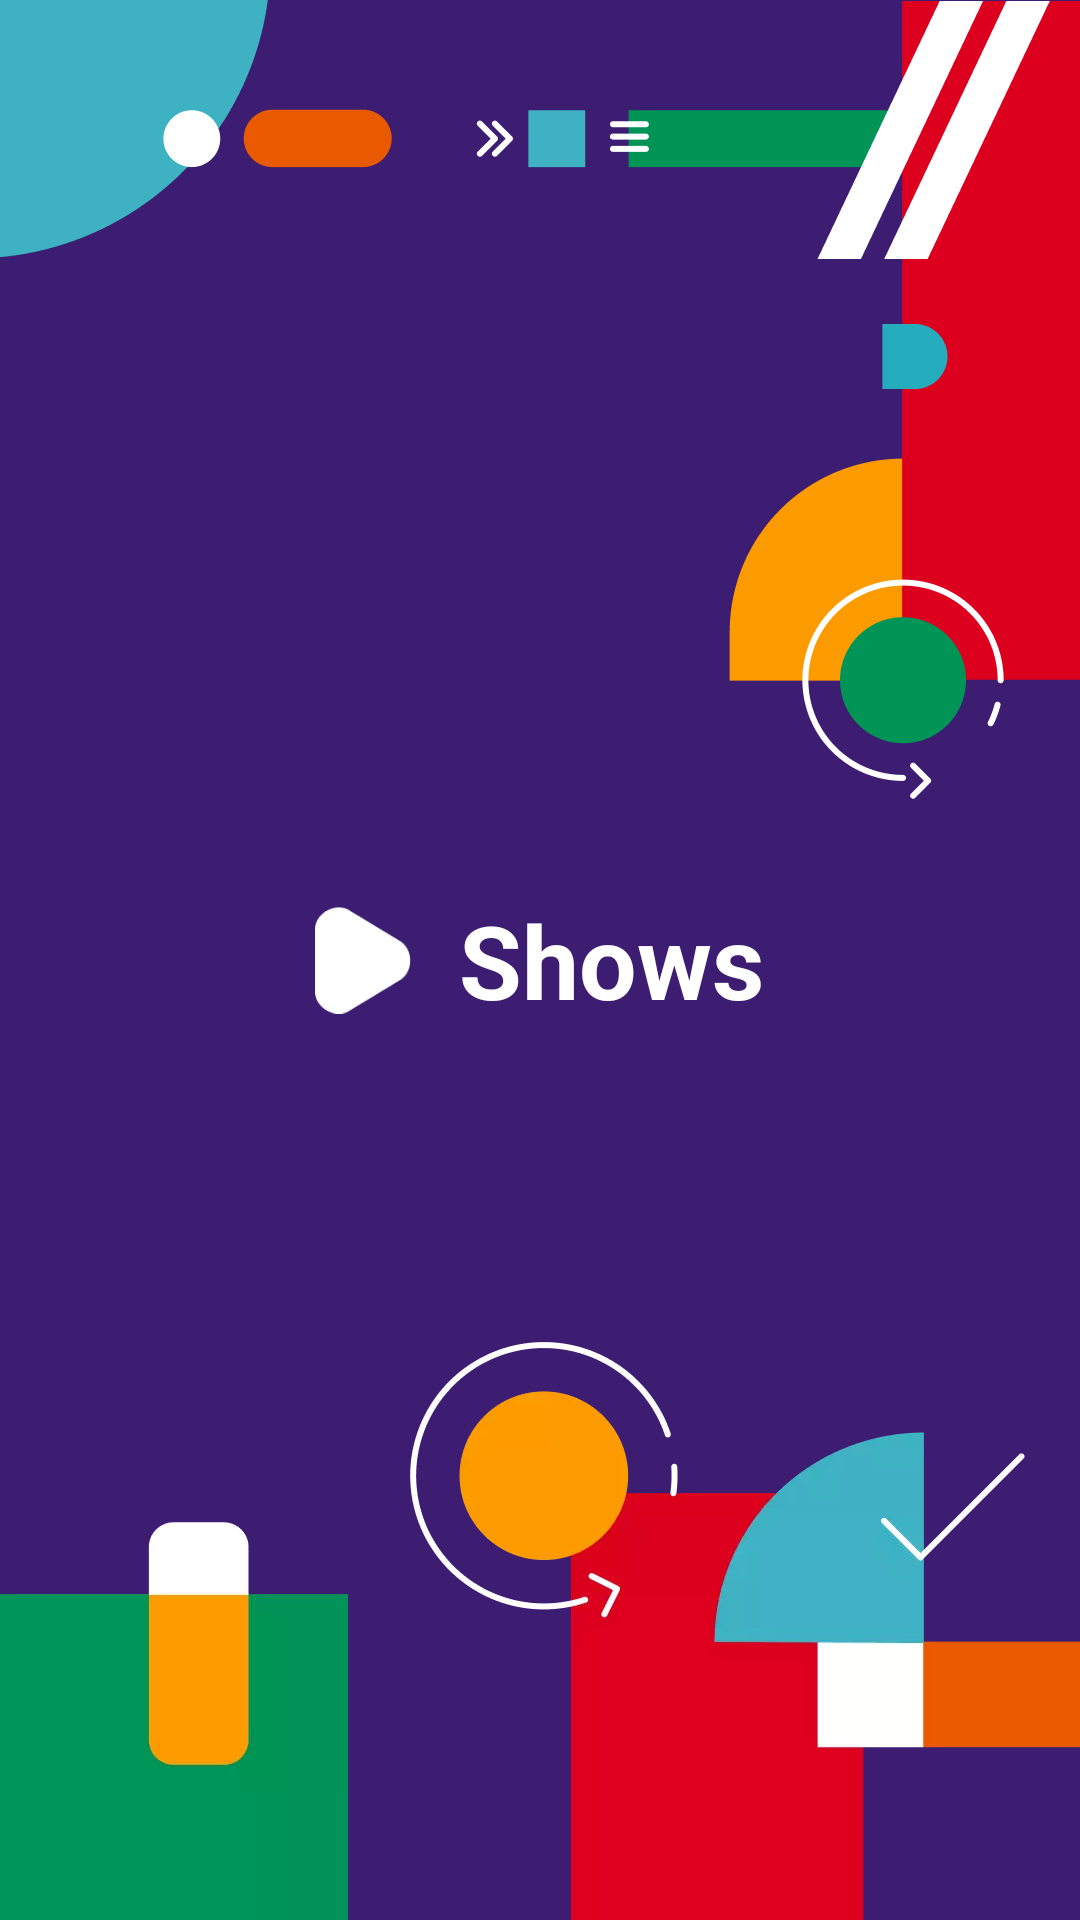

Named icons in this screenshot (1080w x 1920h) and their bounding boxes, bbox=[x1, y1, x2, y2]:
triangle: bbox=[315, 907, 411, 1014]
